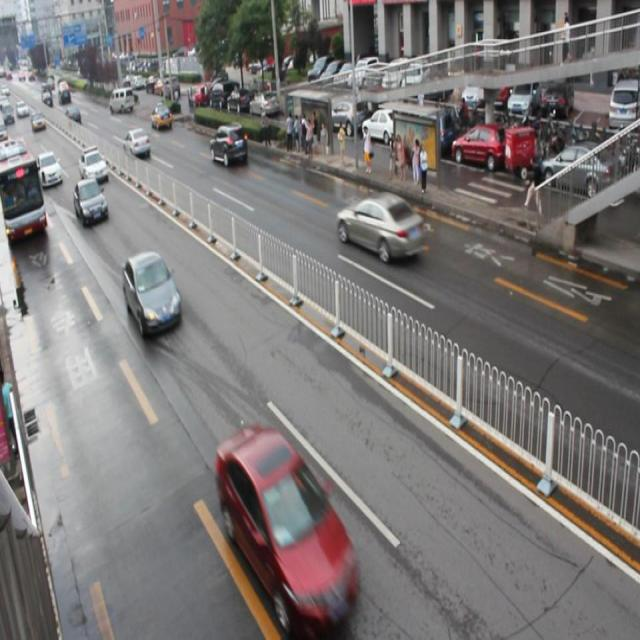car: (216, 428, 358, 632), (336, 191, 424, 261), (122, 252, 182, 336), (208, 121, 248, 168), (74, 180, 108, 224), (79, 147, 110, 180), (38, 151, 63, 188), (123, 128, 151, 156), (151, 102, 171, 129)
van: (1, 137, 47, 242)
